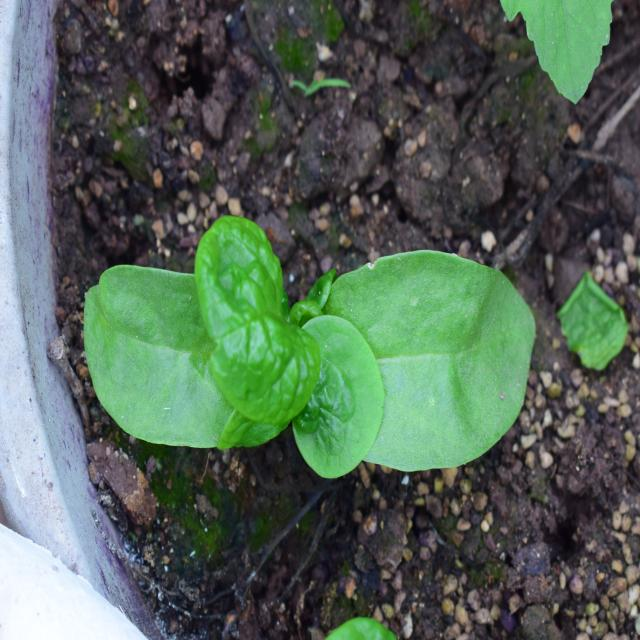Ceylon spinach: (67, 202, 532, 512)
